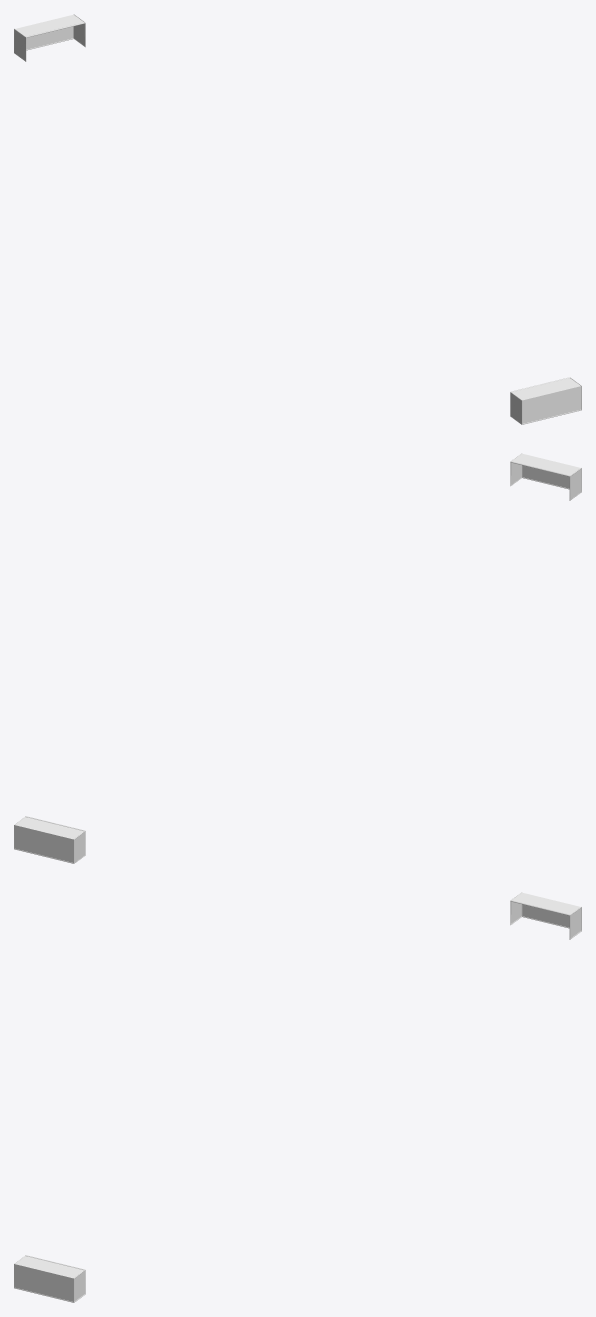
The model's file is Goal Net.fbx.
The picture shows the model from 3 angles, top to bottom: view 1: azimuth 30°, elevation 25°; view 2: azimuth 150°, elevation 25°; view 3: azimuth 330°, elevation 25°; orthographic projection.
Visible parts, largest first — view 1: Goal_net (×2); view 2: Goal_net (×2); view 3: Goal_net (×2).
Part boxes in pixels (x1=…): Goal_net (×2): x1=14, y1=14, x2=581, y2=423; Goal_net (×2): x1=14, y1=453, x2=581, y2=862; Goal_net (×2): x1=14, y1=892, x2=581, y2=1301.
Size of the model in its own units: 7.19 by 2.83 by 105.
Materials: 2 (1 with a texture image).
